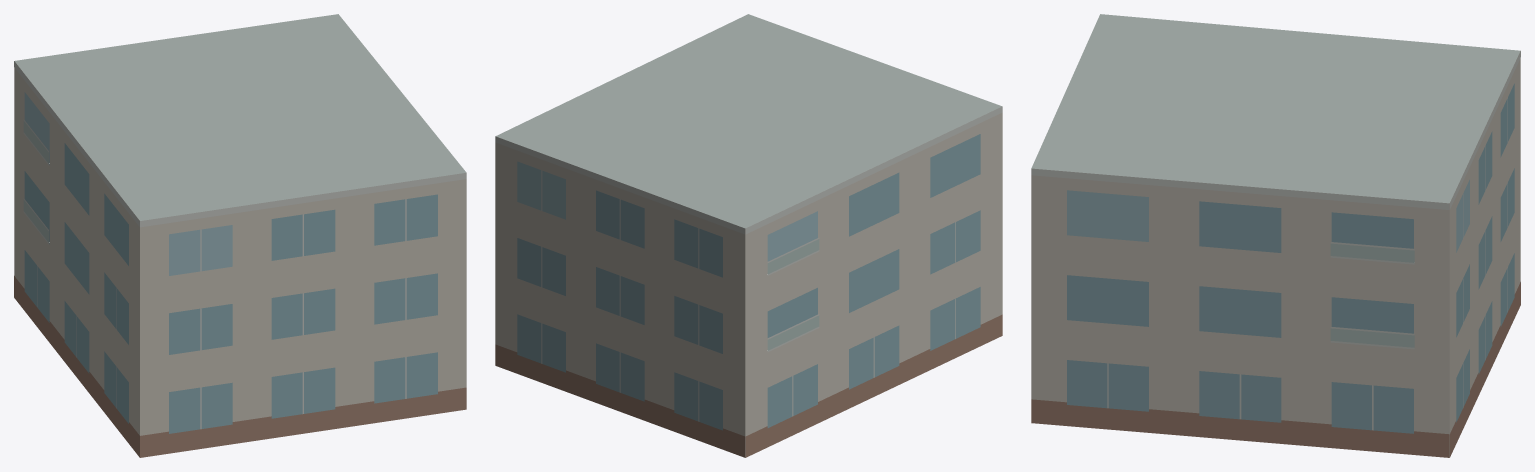
Rendered from survey-upis-32541224.glb.
3 renders of one model, left to right at view 1: azimuth 30°, elevation 25°; view 2: azimuth 150°, elevation 25°; view 3: azimuth 270°, elevation 25°, orthographic. The views are drawn at different scales.
Parts seen in each view (by area): view 1: survey-upis-32541224.tmp; view 2: survey-upis-32541224.tmp; view 3: survey-upis-32541224.tmp.
Boxes of the visible parts, x1,y1,x2,y2 form: survey-upis-32541224.tmp: [14, 14, 466, 457]; survey-upis-32541224.tmp: [495, 14, 1002, 457]; survey-upis-32541224.tmp: [1031, 14, 1520, 457].
Bounding box in the file's own units: 14.61 × 9.15 × 15.96.
